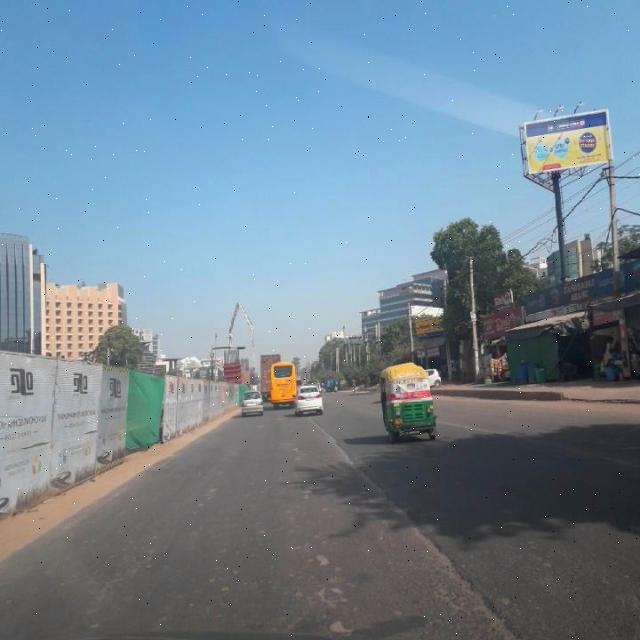D00: (335, 440, 505, 626)
